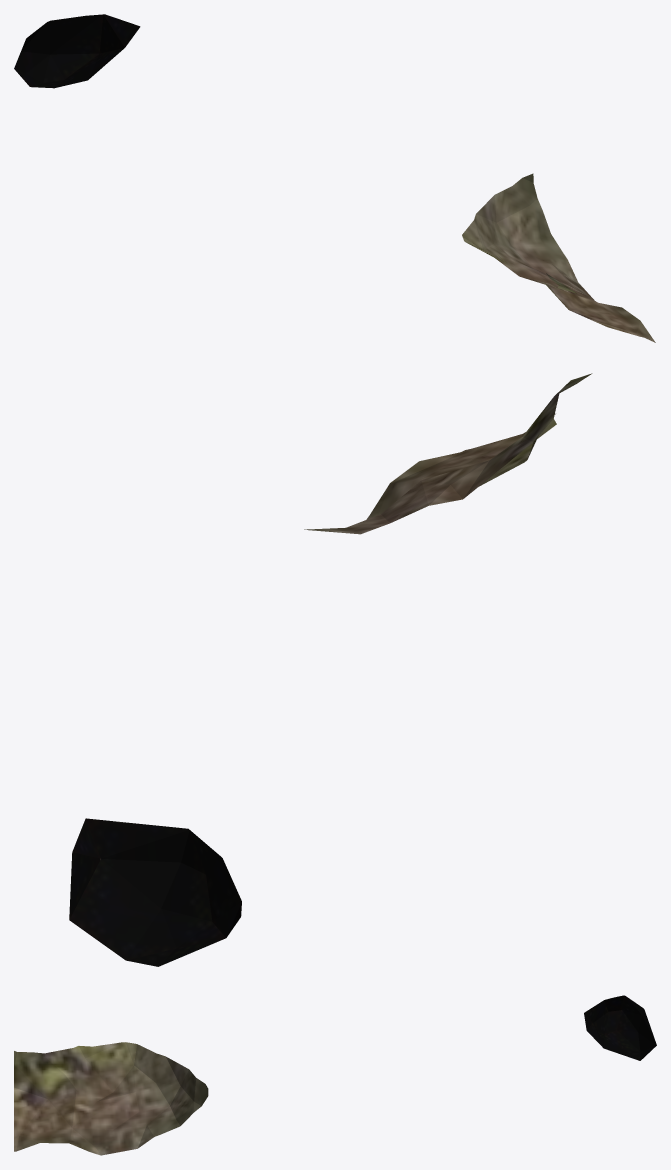
The picture shows the model from 3 angles, top to bottom: view 1: azimuth 30°, elevation 25°; view 2: azimuth 150°, elevation 25°; view 3: azimuth 270°, elevation 25°; orthographic projection. The views are drawn at different scales.
Bounding box in the file's own units: 1.01 × 0.318 × 2.78.
1 material, 1 textured.
